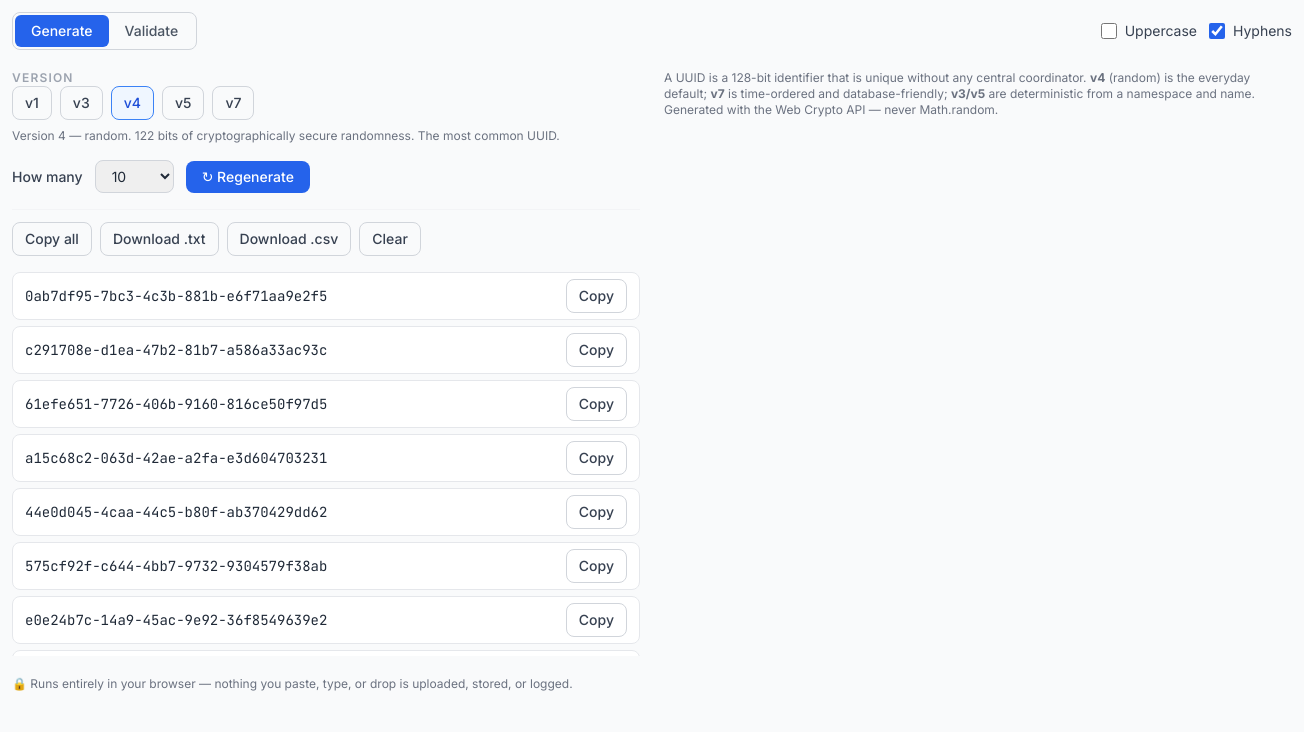
Test: UuidGenerator › computes a deterministic v5 UUID from a namespace + name
Click the radio button labelled "v5" at (183, 103), box [162, 86, 204, 120]
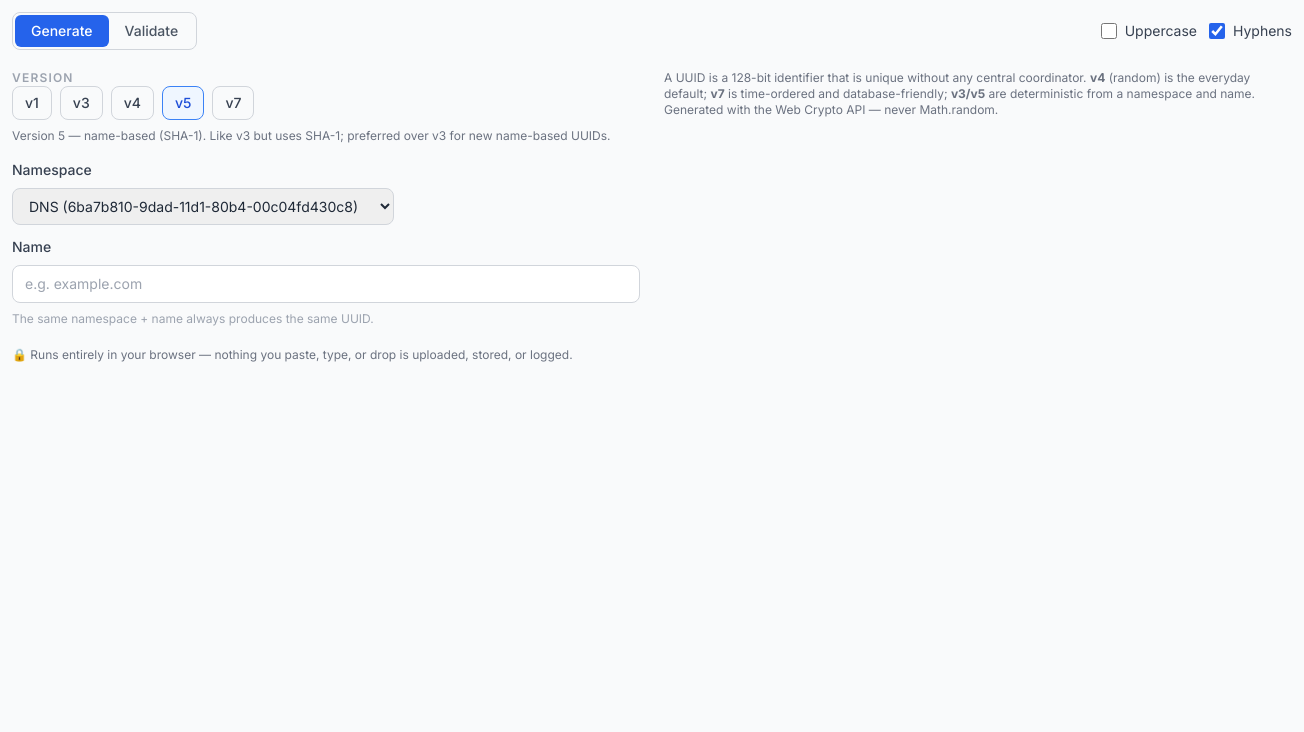
Type "python.org" into the field labelled "Name" at (326, 284), box [12, 265, 640, 303]
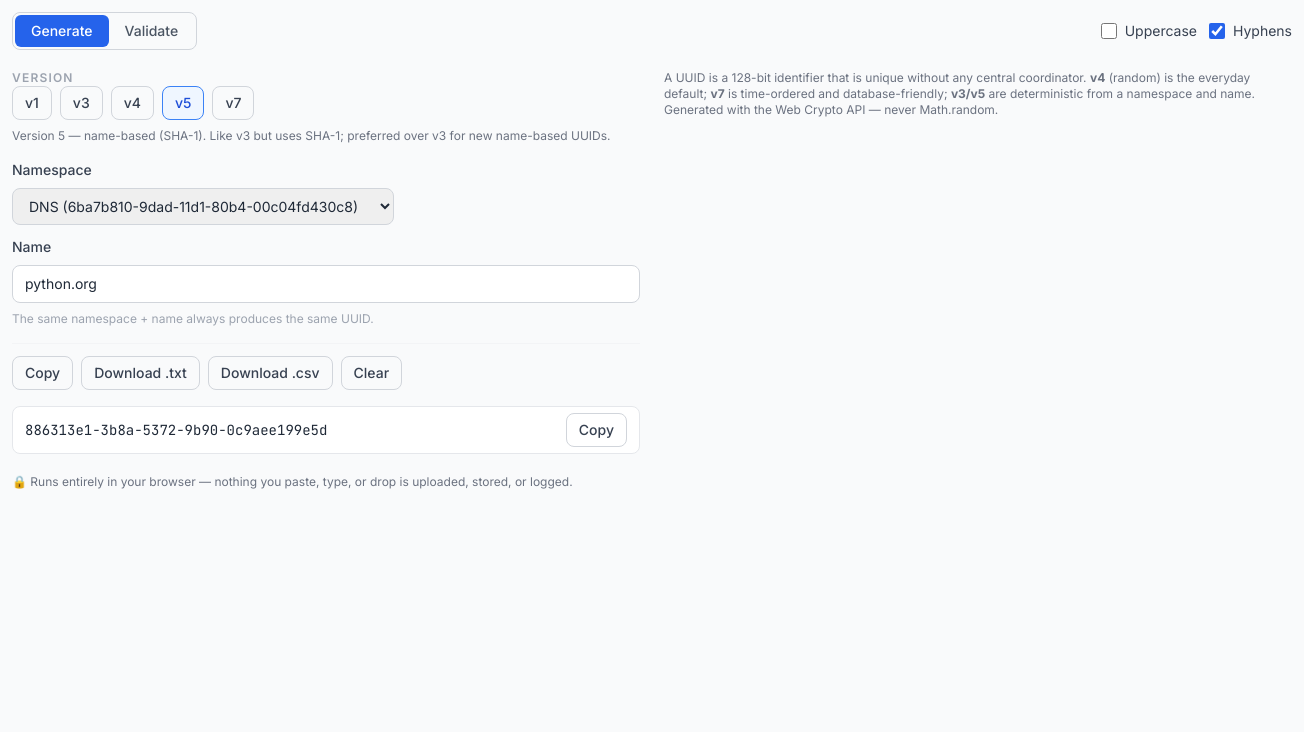
Check: the text "886313e1-3b8a-5372-9b90-0c9aee199e5d" is shown, box [25, 421, 327, 439]
